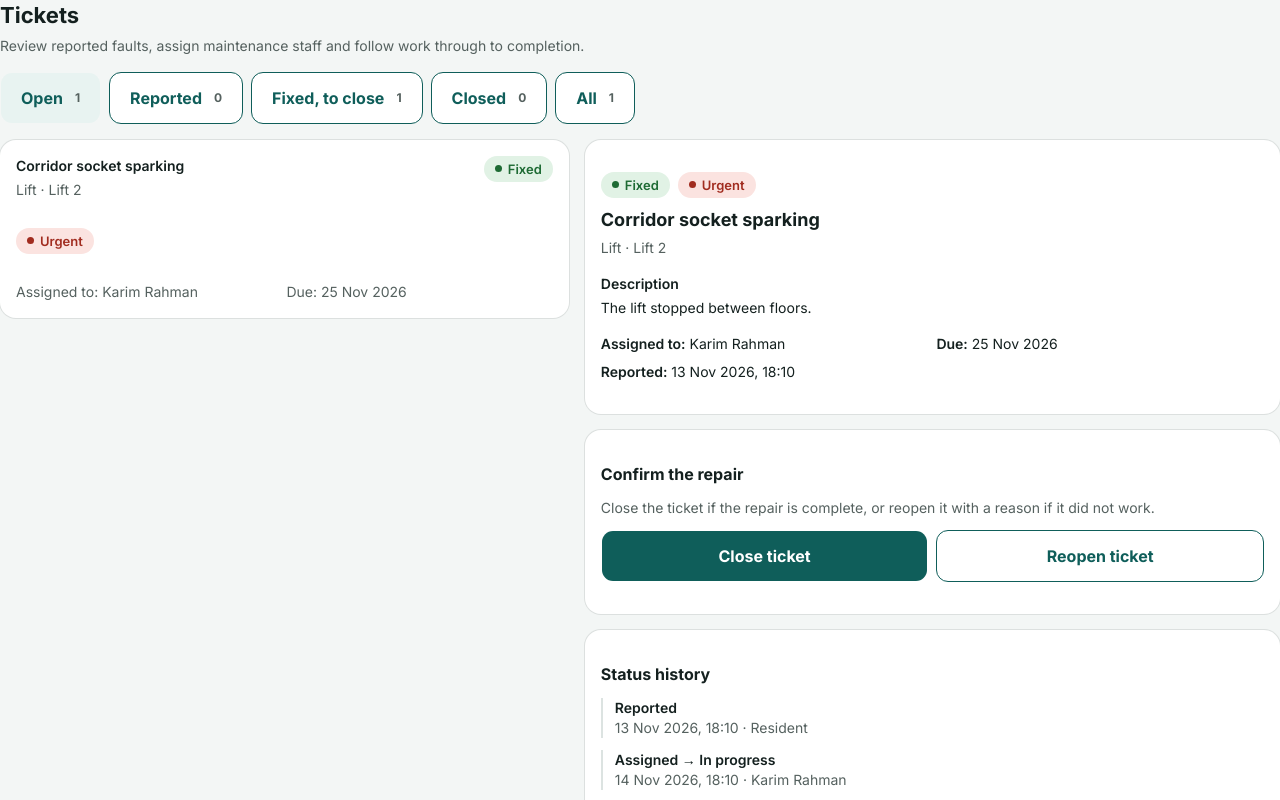
it: ManagerTickets › shows status history, work notes and closes a Fixed ticket after confirmation
Expected: the heading "Status history" is shown, [601,664,710,684]
Click the button "Close ticket": (765, 556) [601,530,928,582]
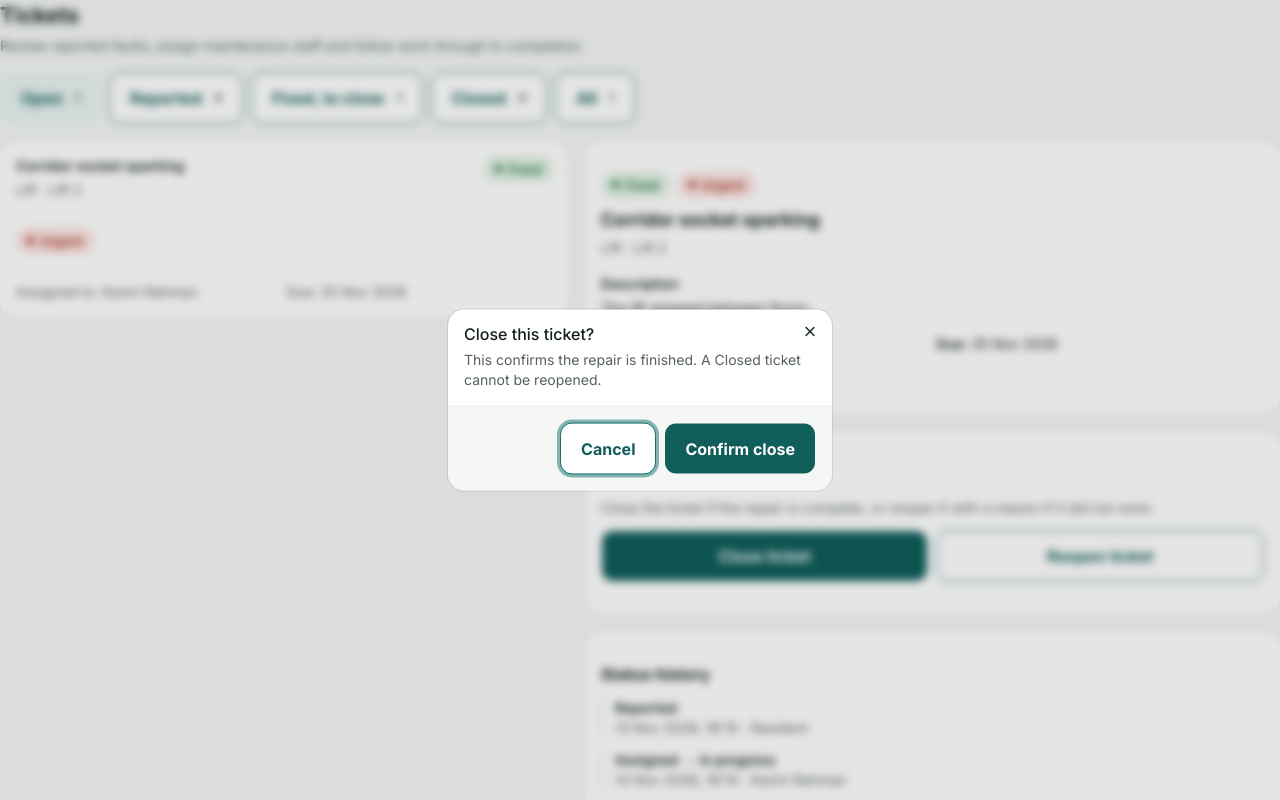
Now the dialog shows "A Closed ticket cannot be reopened.", box [464,350,801,388]
Click the button "Confirm close": (740, 448) [664,422,816,474]
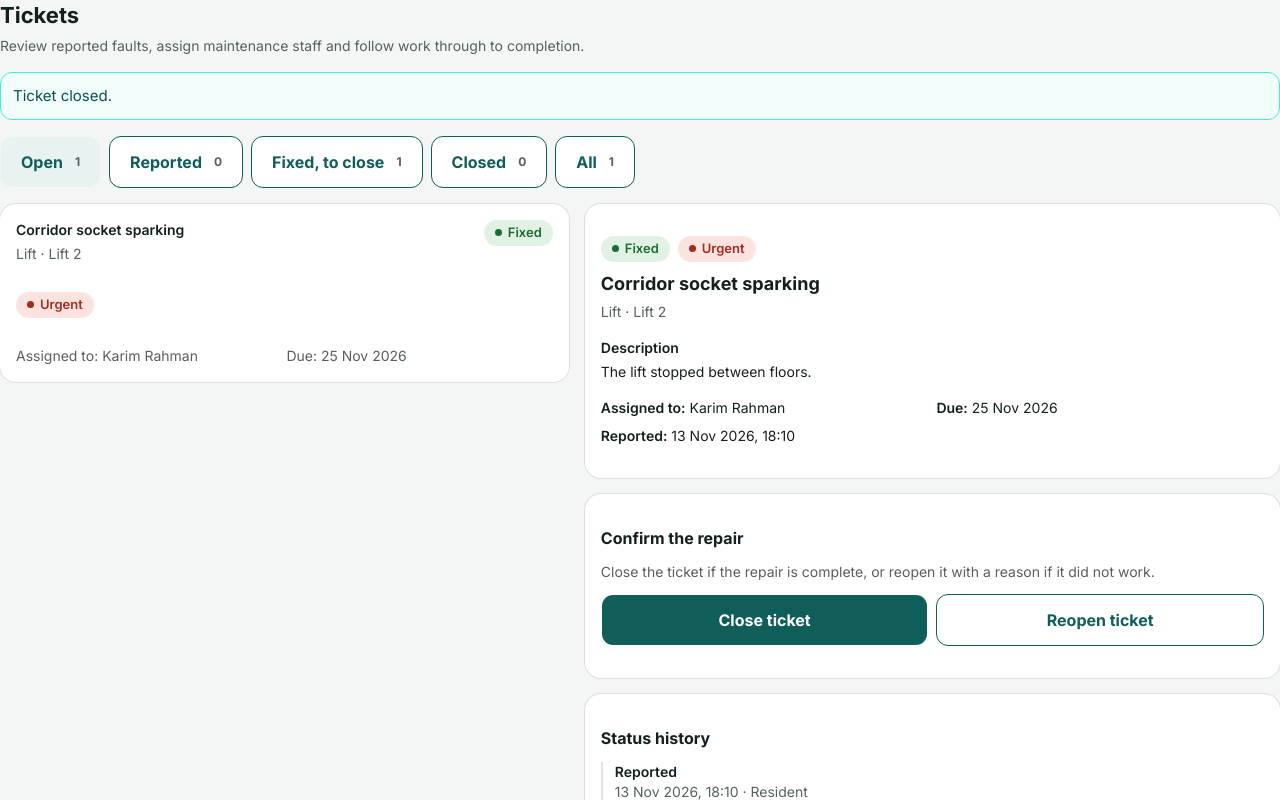
Now the message reads "Ticket closed.", box [13,86,112,105]
